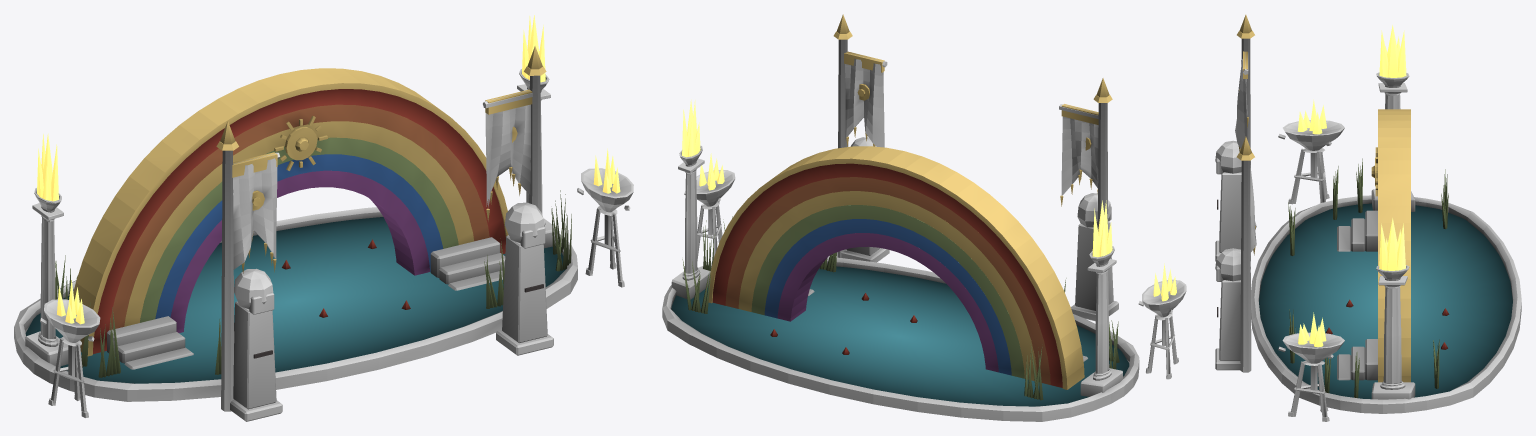
The model's file is iris-bridge-l1.glb.
3 views of the same model, side by side, from view 1: azimuth 30°, elevation 25°; view 2: azimuth 150°, elevation 25°; view 3: azimuth 270°, elevation 25° (orthographic). The views are drawn at different scales.
Parts seen in each view (by area): view 1: iris-bridge-l1; view 2: iris-bridge-l1; view 3: iris-bridge-l1.
Boxes of the visible parts, x1,y1,x2,y2 form: iris-bridge-l1: (14, 15, 633, 421); iris-bridge-l1: (662, 14, 1186, 421); iris-bridge-l1: (1215, 14, 1521, 421).
Size of the model in its own units: 1.72 by 0.8256 by 0.975.
